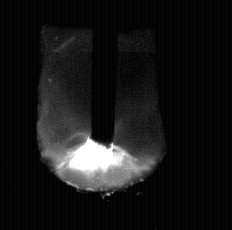arame: (91, 0, 116, 147)
poca: (39, 0, 164, 230)
